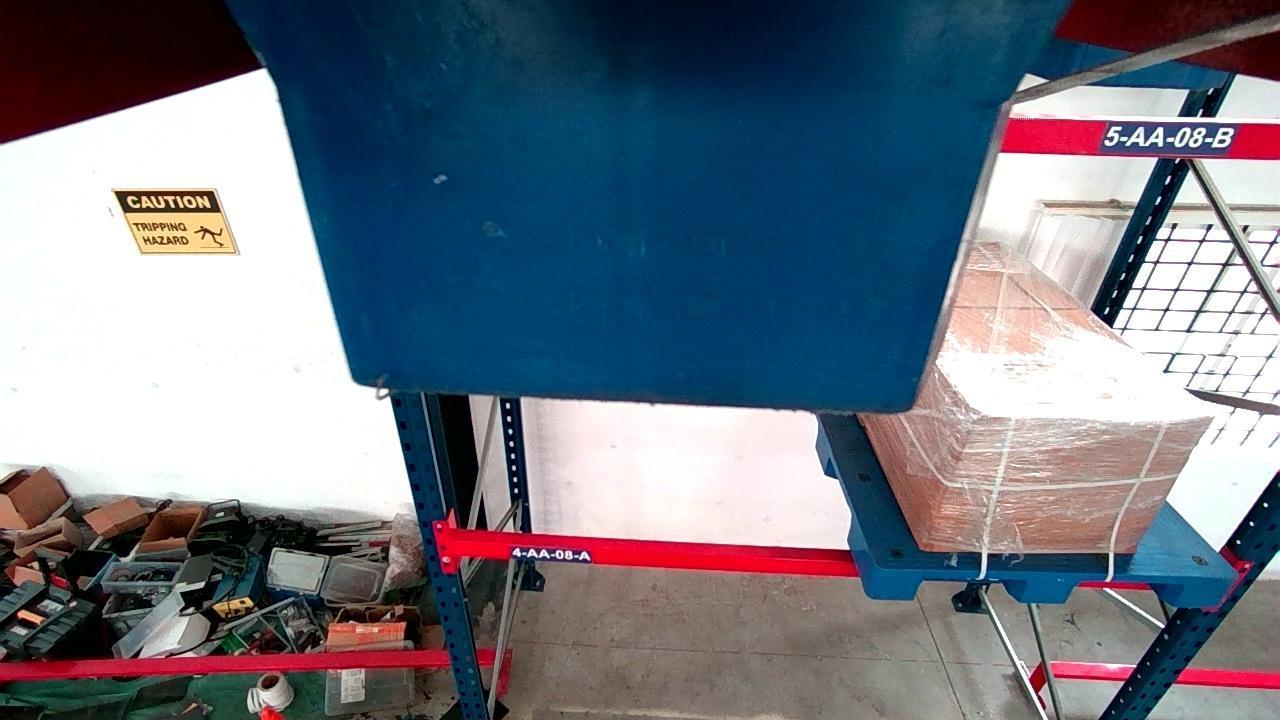h_rack: (453, 537, 858, 575), (1002, 119, 1280, 159)
small_pallet: (868, 567, 1236, 611)
